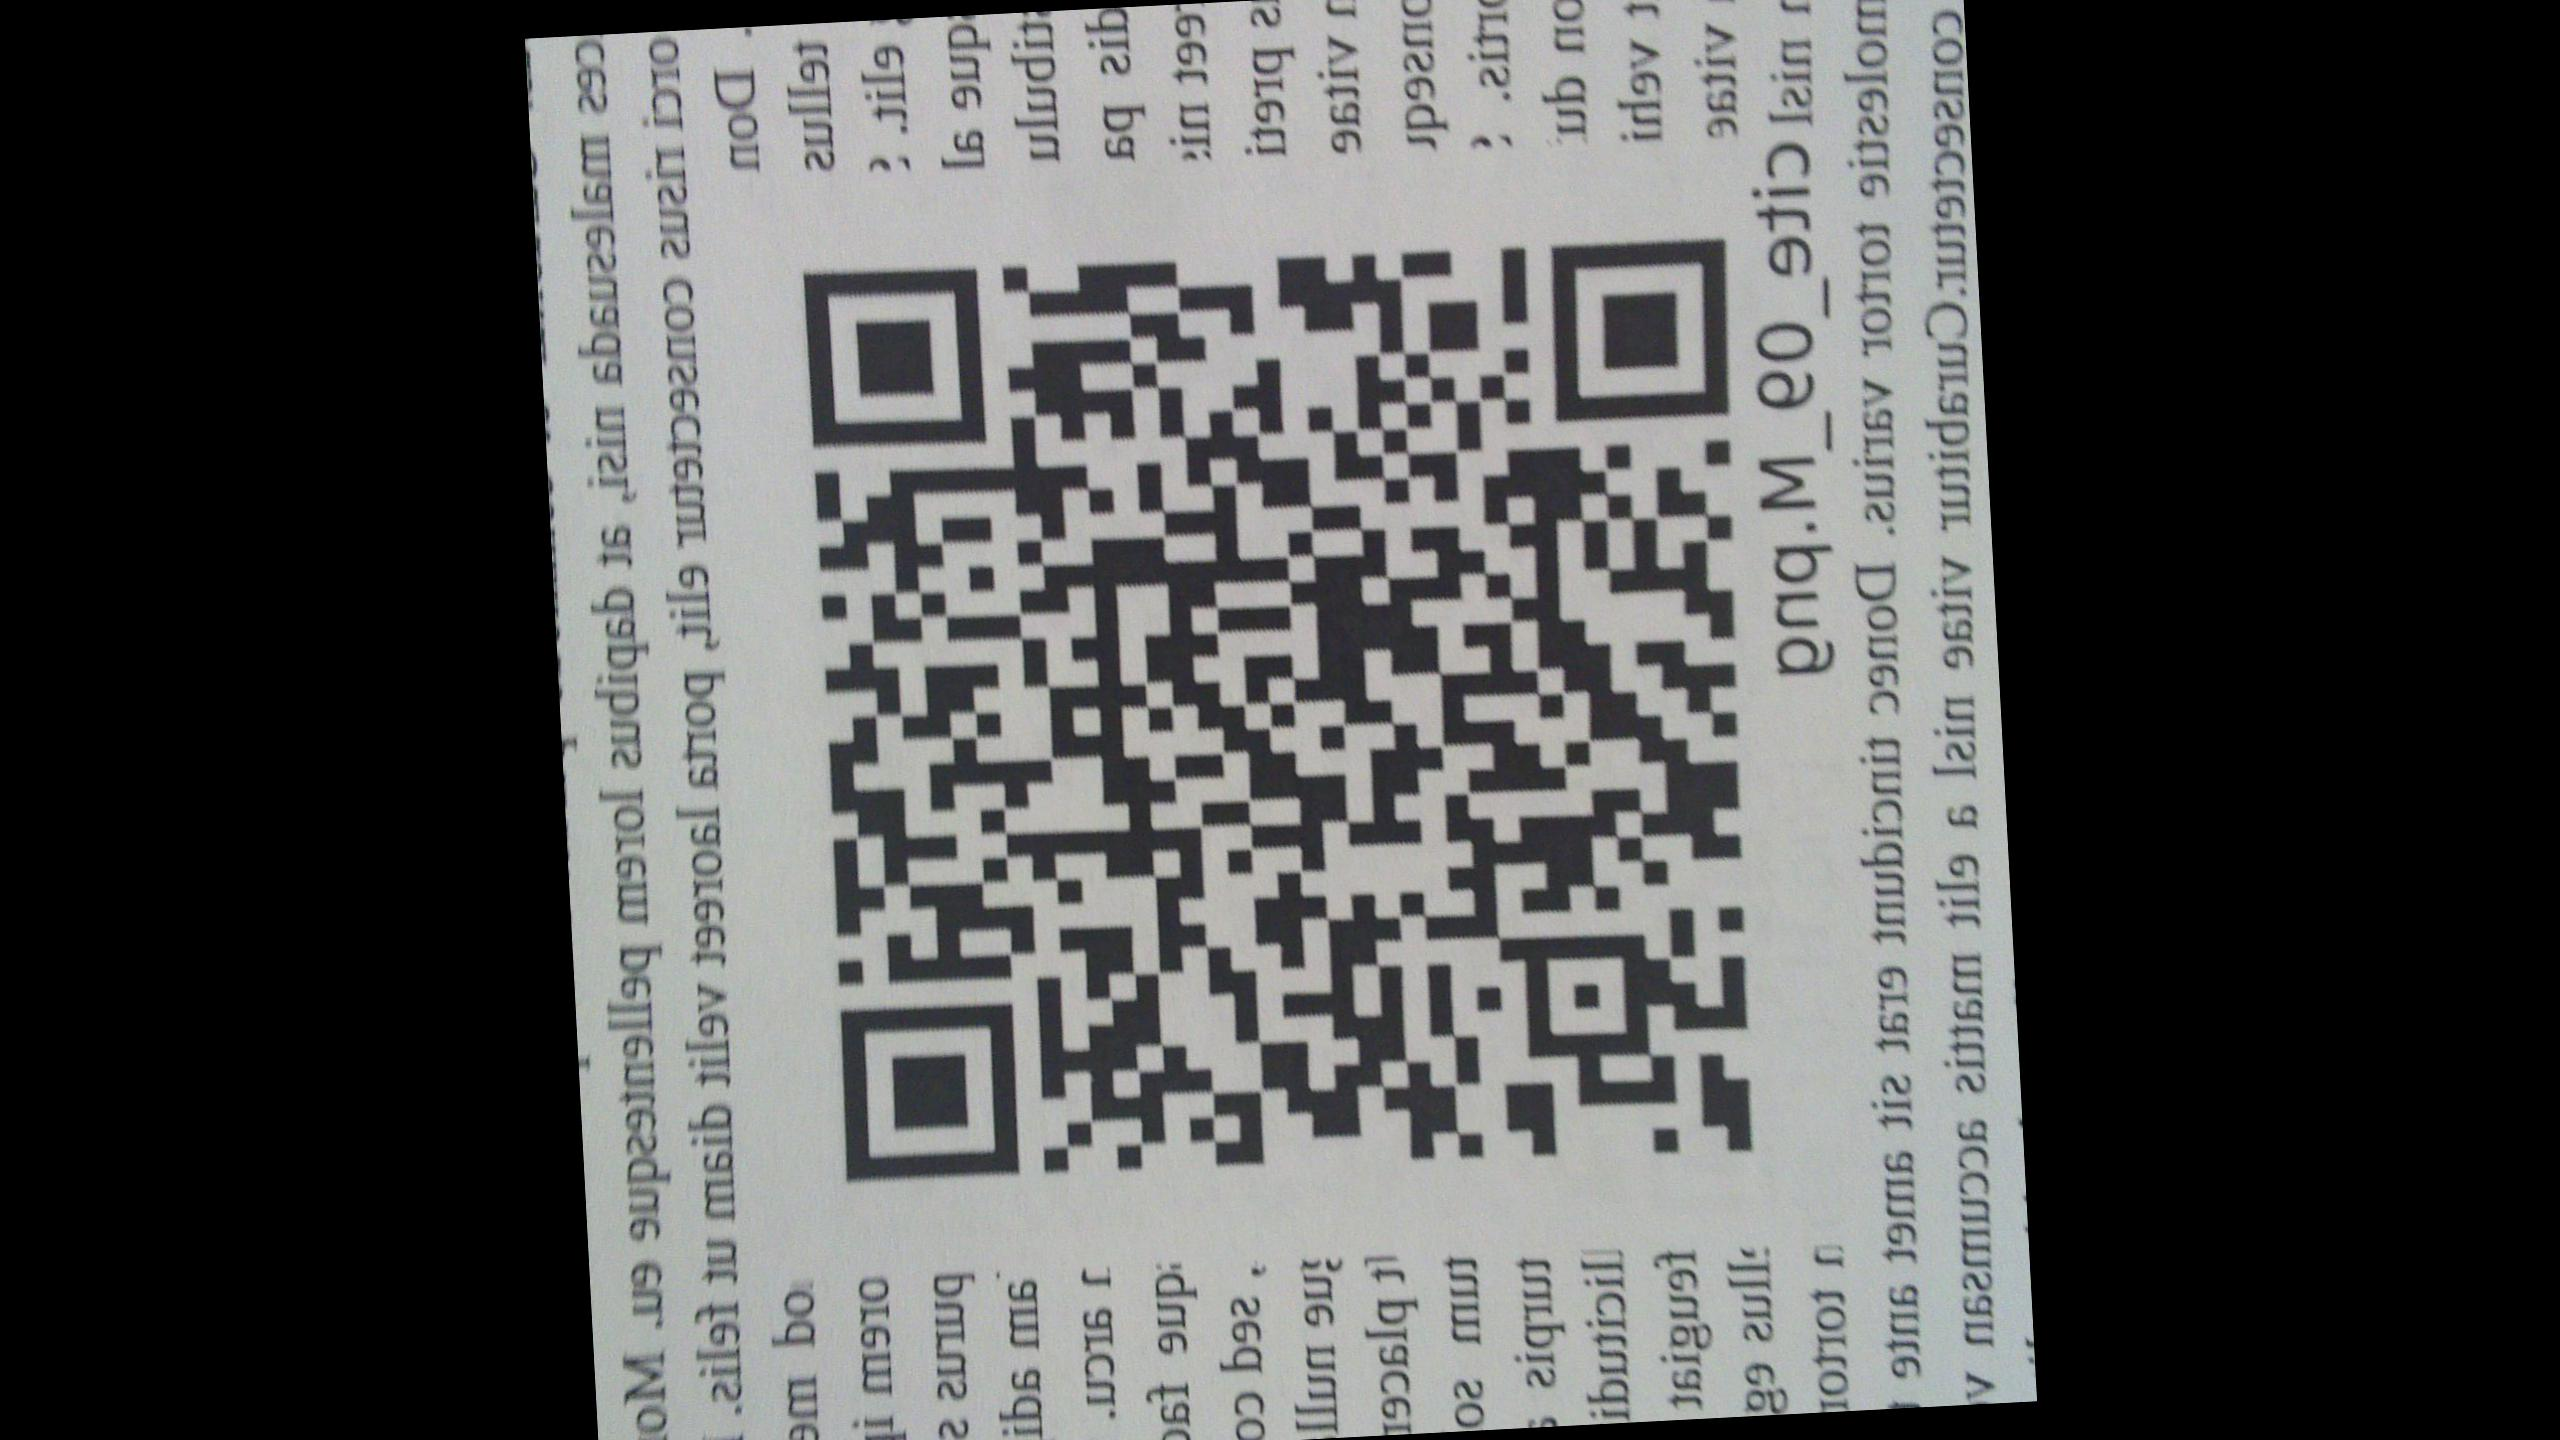QR: (812, 223, 1746, 1189)
